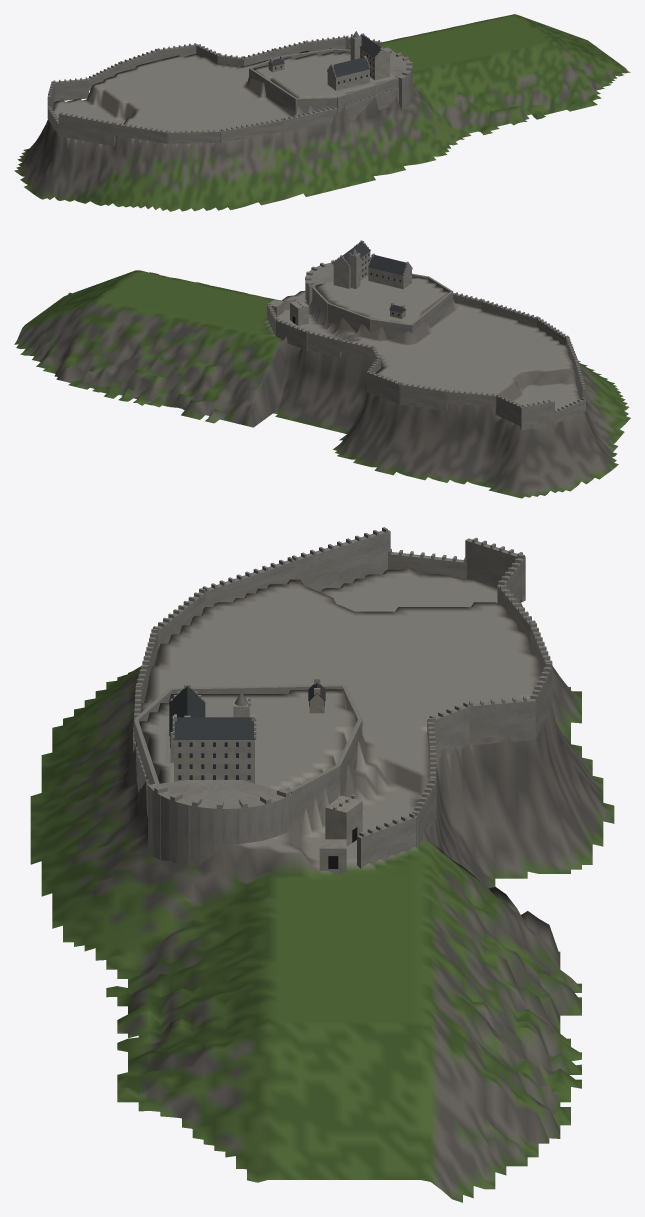
The model's file is edinburgh-castle-b70.glb.
The picture shows the model from 3 angles, top to bottom: view 1: azimuth 30°, elevation 25°; view 2: azimuth 150°, elevation 25°; view 3: azimuth 270°, elevation 25°; orthographic projection. The views are drawn at different scales.
Bounding box in the file's own units: 48 × 9.9 × 21.6.
11 materials, 9 textured.
